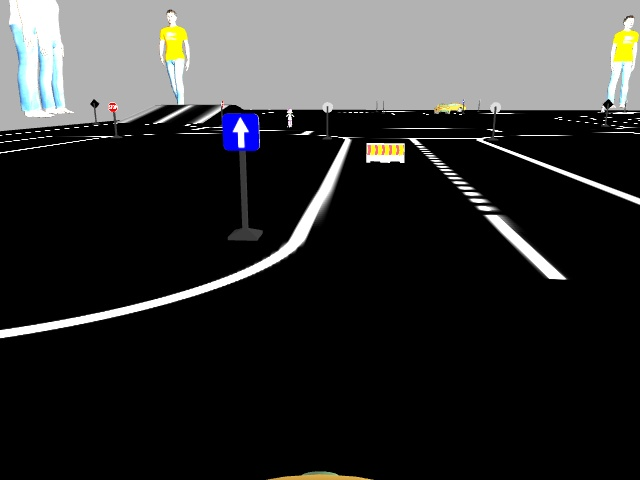ClosedRoadStand: (366, 142, 404, 162)
OneWay: (221, 116, 258, 150)
